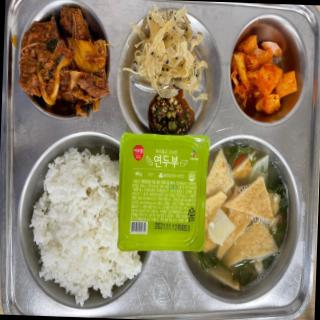Nasi: (28, 154, 119, 306)
